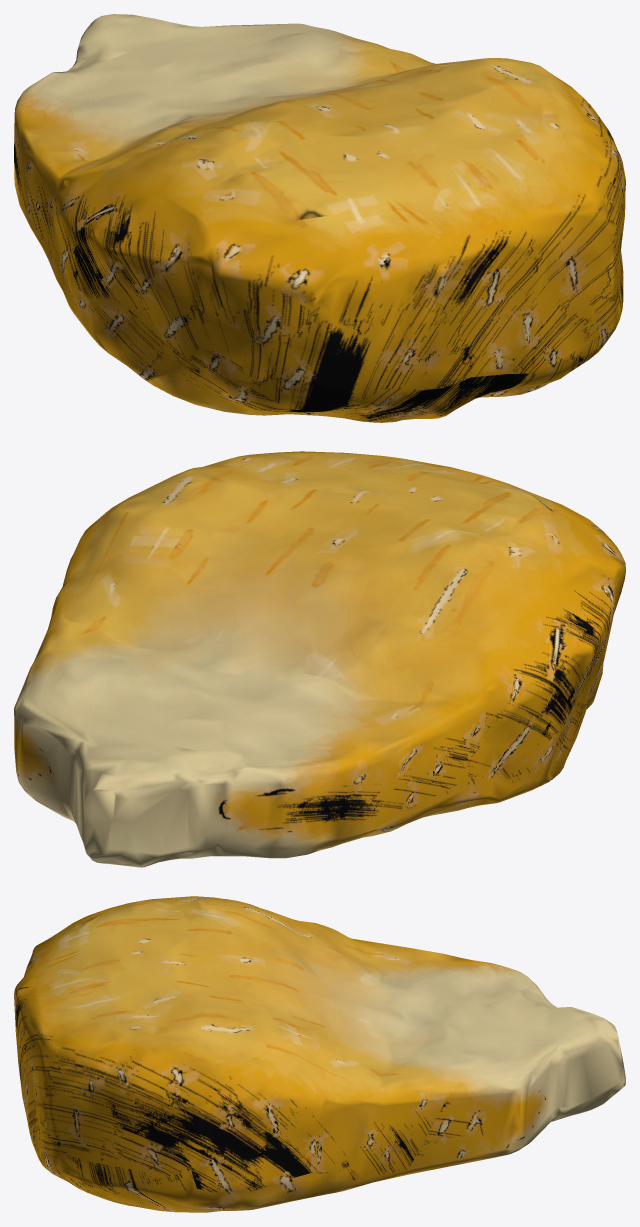
File: Maiz.fbx
The picture shows the model from 3 angles, top to bottom: view 1: azimuth 30°, elevation 25°; view 2: azimuth 150°, elevation 25°; view 3: azimuth 270°, elevation 25°; orthographic projection. The views are drawn at different scales.
Parts seen in each view (by area): view 1: Maiz_Low; view 2: Maiz_Low; view 3: Maiz_Low.
Boxes of the visible parts, x1=… form: Maiz_Low: x1=14, y1=14, x2=625, y2=422; Maiz_Low: x1=14, y1=451, x2=625, y2=867; Maiz_Low: x1=14, y1=896, x2=625, y2=1212.
Size of the model in its own units: 0.0244 by 0.0117 by 0.0321.
1 material, 1 textured.
